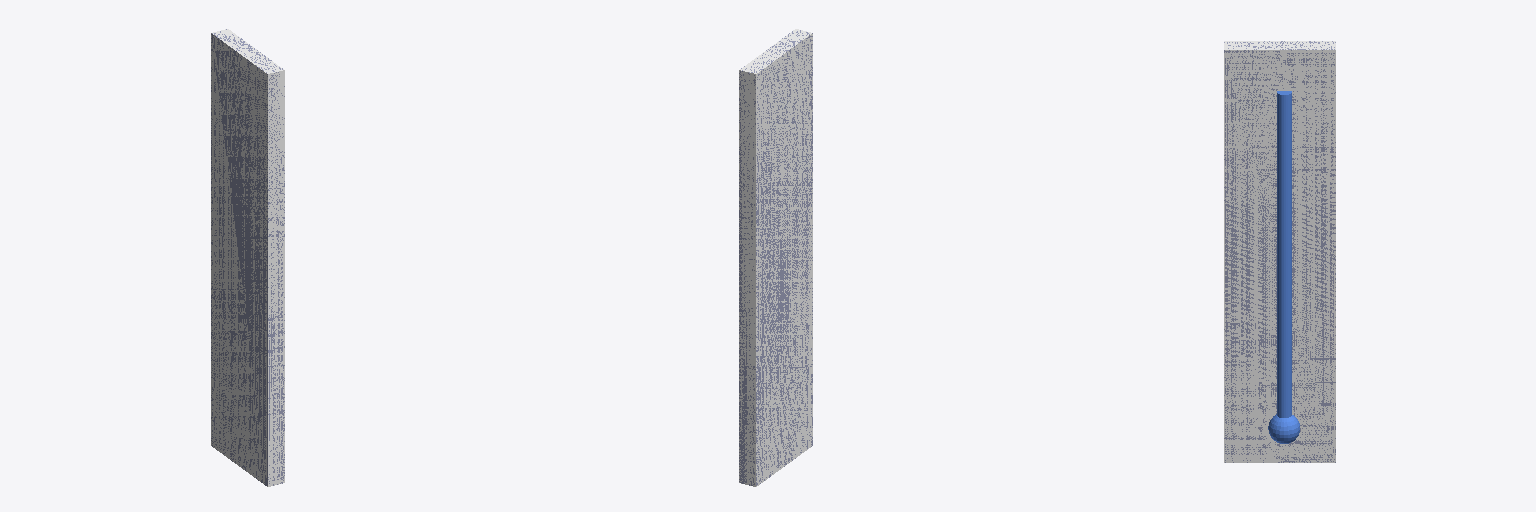
The model's file is thermometer.obj.
The picture shows the model from 3 angles: view 1: azimuth 30°, elevation 25°; view 2: azimuth 150°, elevation 25°; view 3: azimuth 270°, elevation 25°; orthographic projection.
Visible parts, largest first — view 1: Mesh15 Group4 Group3 Group1 Model; view 2: Mesh15 Group4 Group3 Group1 Model; view 3: Mesh15 Group4 Group3 Group1 Model, Mesh18 sphere1 Group3 Group1 Model.
Part boxes in pixels (bbox=[...]): Mesh15 Group4 Group3 Group1 Model: bbox=[211, 29, 284, 486]; Mesh15 Group4 Group3 Group1 Model: bbox=[739, 29, 812, 486]; Mesh15 Group4 Group3 Group1 Model: bbox=[1224, 41, 1335, 462]; Mesh18 sphere1 Group3 Group1 Model: bbox=[1268, 91, 1299, 443].
Size of the model in its own units: 0.7669 by 9.12 by 2.26.